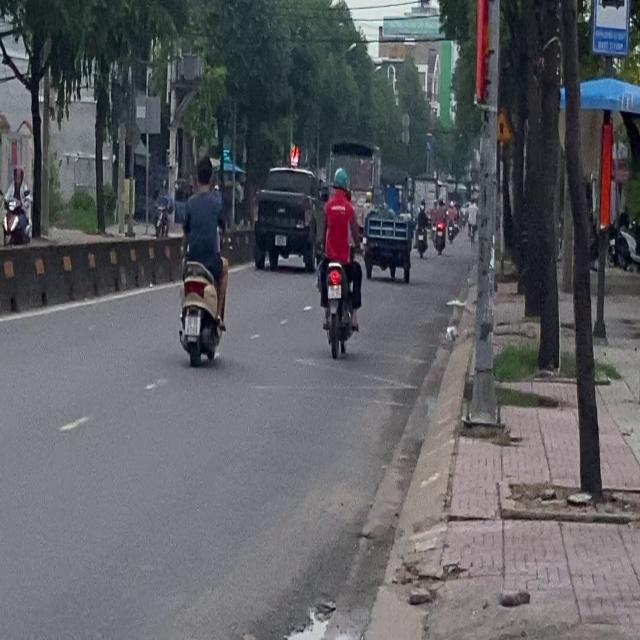helmet: (332, 165, 348, 193)
licenseplate: (176, 153, 230, 367), (316, 163, 364, 357)
motorcyclist: (194, 154, 213, 189)
nohelmet: (184, 315, 199, 334)
